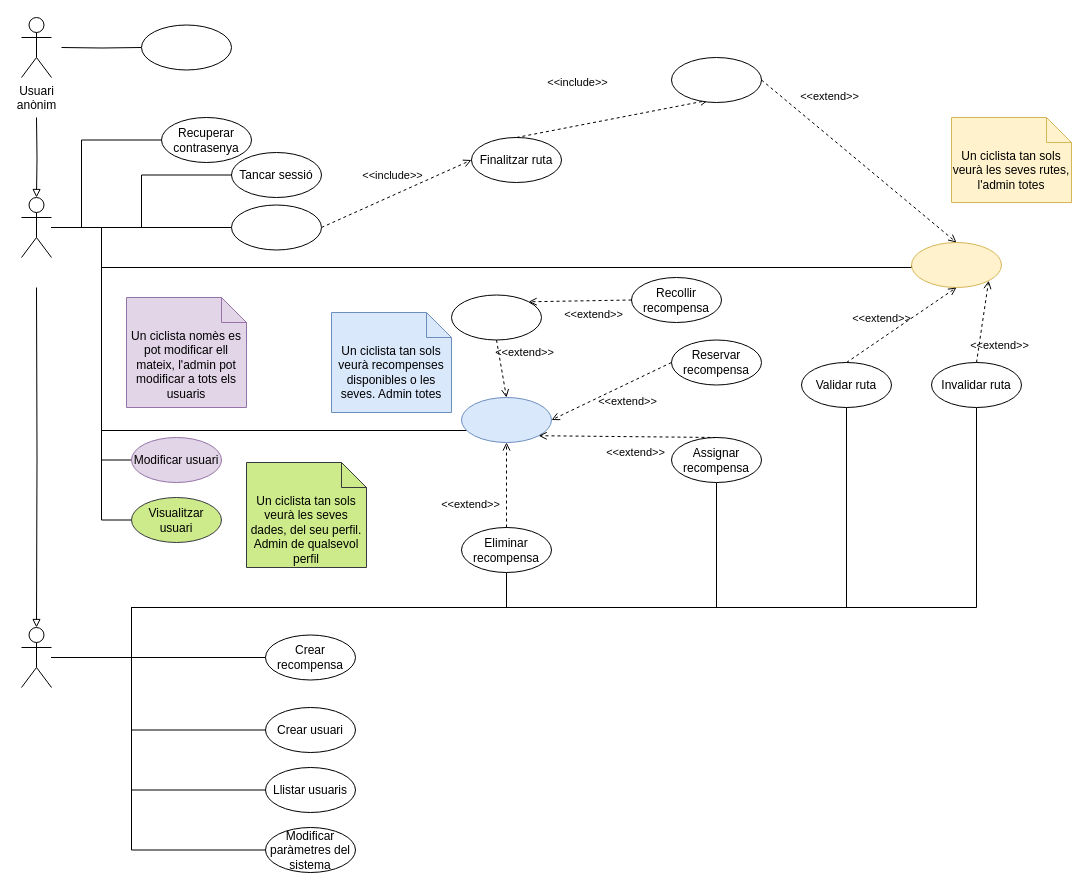
The diagram is 1089 pixels wide and 890 high, and some of its shapes have lost their labels. The shapes that lost their labels are listed below. From the top down, each one's box as (x1, y1, x2, y2) in pixels, then its label:
(140, 24, 232, 70): Login
(670, 56, 762, 102): Visualitzar detalls ruta
(20, 196, 52, 258): Ciclista
(230, 204, 322, 250): Iniciar ruta
(910, 242, 1002, 288): Llistar rutes
(450, 294, 542, 340): Mostrar detalls recompensa
(460, 396, 552, 442): Llistar recompenses
(20, 626, 52, 688): Admin
